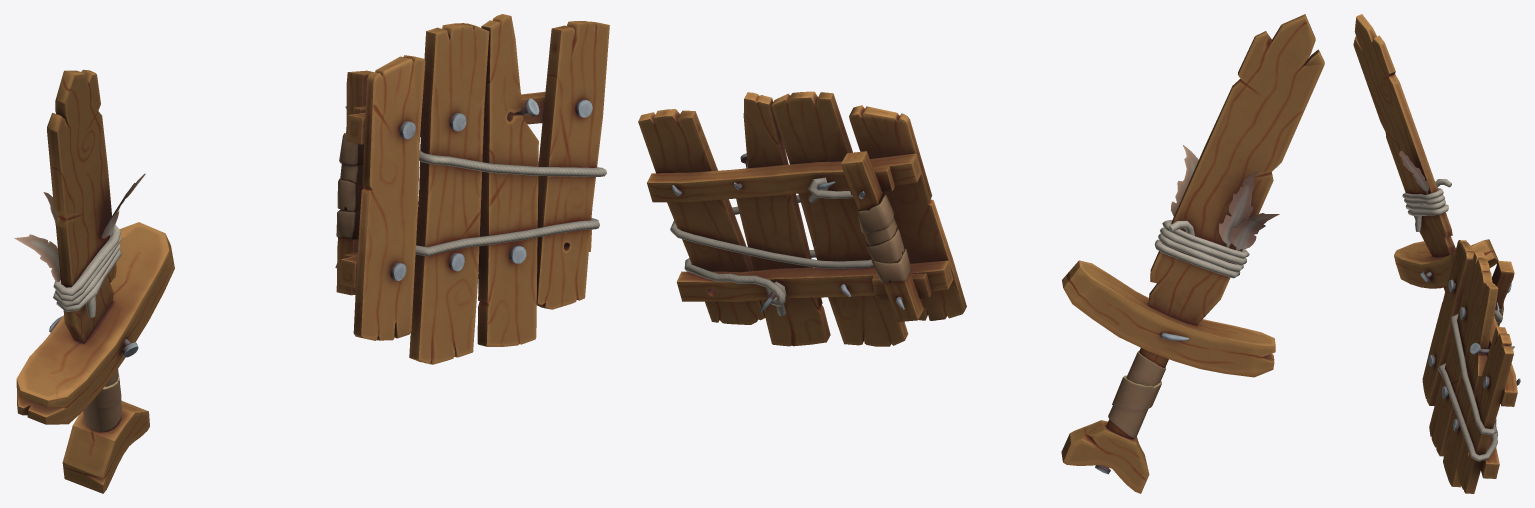
3 renders of one model, left to right at view 1: azimuth 30°, elevation 25°; view 2: azimuth 150°, elevation 25°; view 3: azimuth 270°, elevation 25°, orthographic. The views are drawn at different scales.
Parts seen in each view (by area): view 1: ShieldOfNoviceHero, SwordOfNoviceHero; view 2: ShieldOfNoviceHero, SwordOfNoviceHero; view 3: ShieldOfNoviceHero, SwordOfNoviceHero.
Boxes of the visible parts, x1,y1,x2,y2 form: ShieldOfNoviceHero: (335,14,609,364); SwordOfNoviceHero: (14,69,174,493); ShieldOfNoviceHero: (638,91,966,346); SwordOfNoviceHero: (1061,14,1324,493); ShieldOfNoviceHero: (1422,240,1520,493); SwordOfNoviceHero: (1353,14,1498,291).
Bounding box in the file's own units: 1.41 × 1.02 × 0.4577.
Materials: 2 (2 with a texture image).
